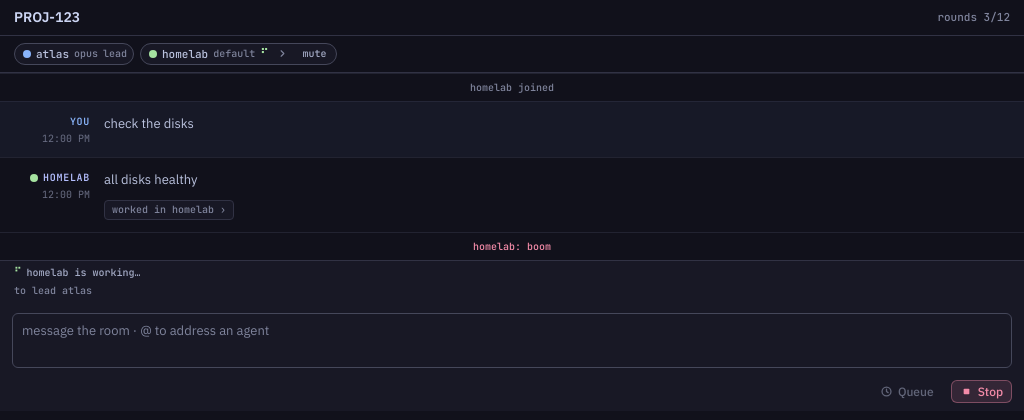
Test case: the target line follows the mentions in the draft
Expected: the text "to lead atlas" is shown, [0,279,1023,297]
Step 1. Type "@ops look" into the text box labelled "message the room · @ to address an agent" → (512, 340), box [12,313,1012,368]
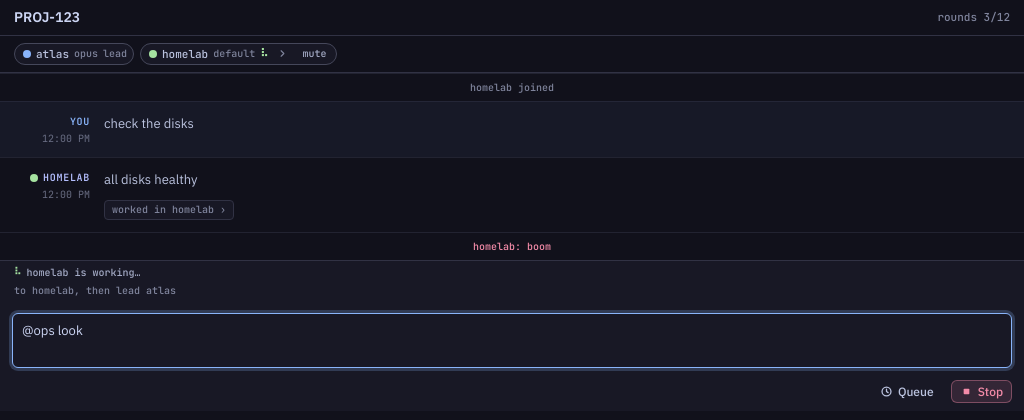
Now the text "to homelab, then lead atlas" is shown, box [0,279,1023,297]
